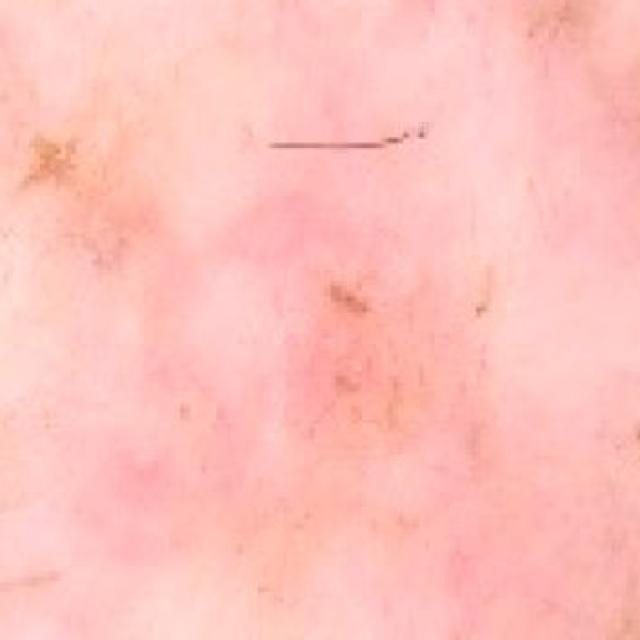BCC: (91, 103, 580, 640)
